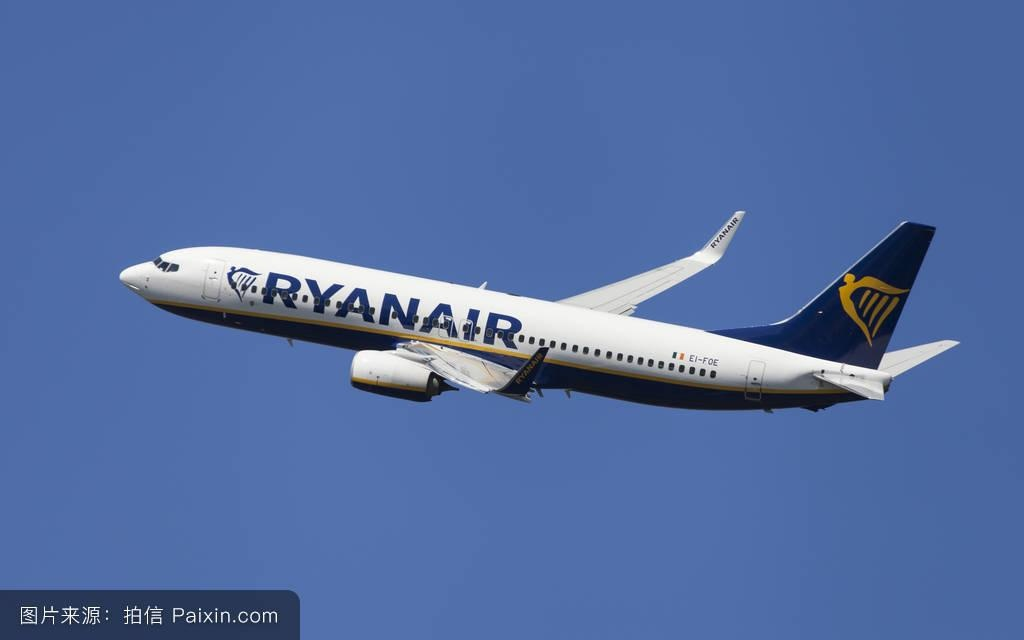airplane: (106, 195, 963, 414)
